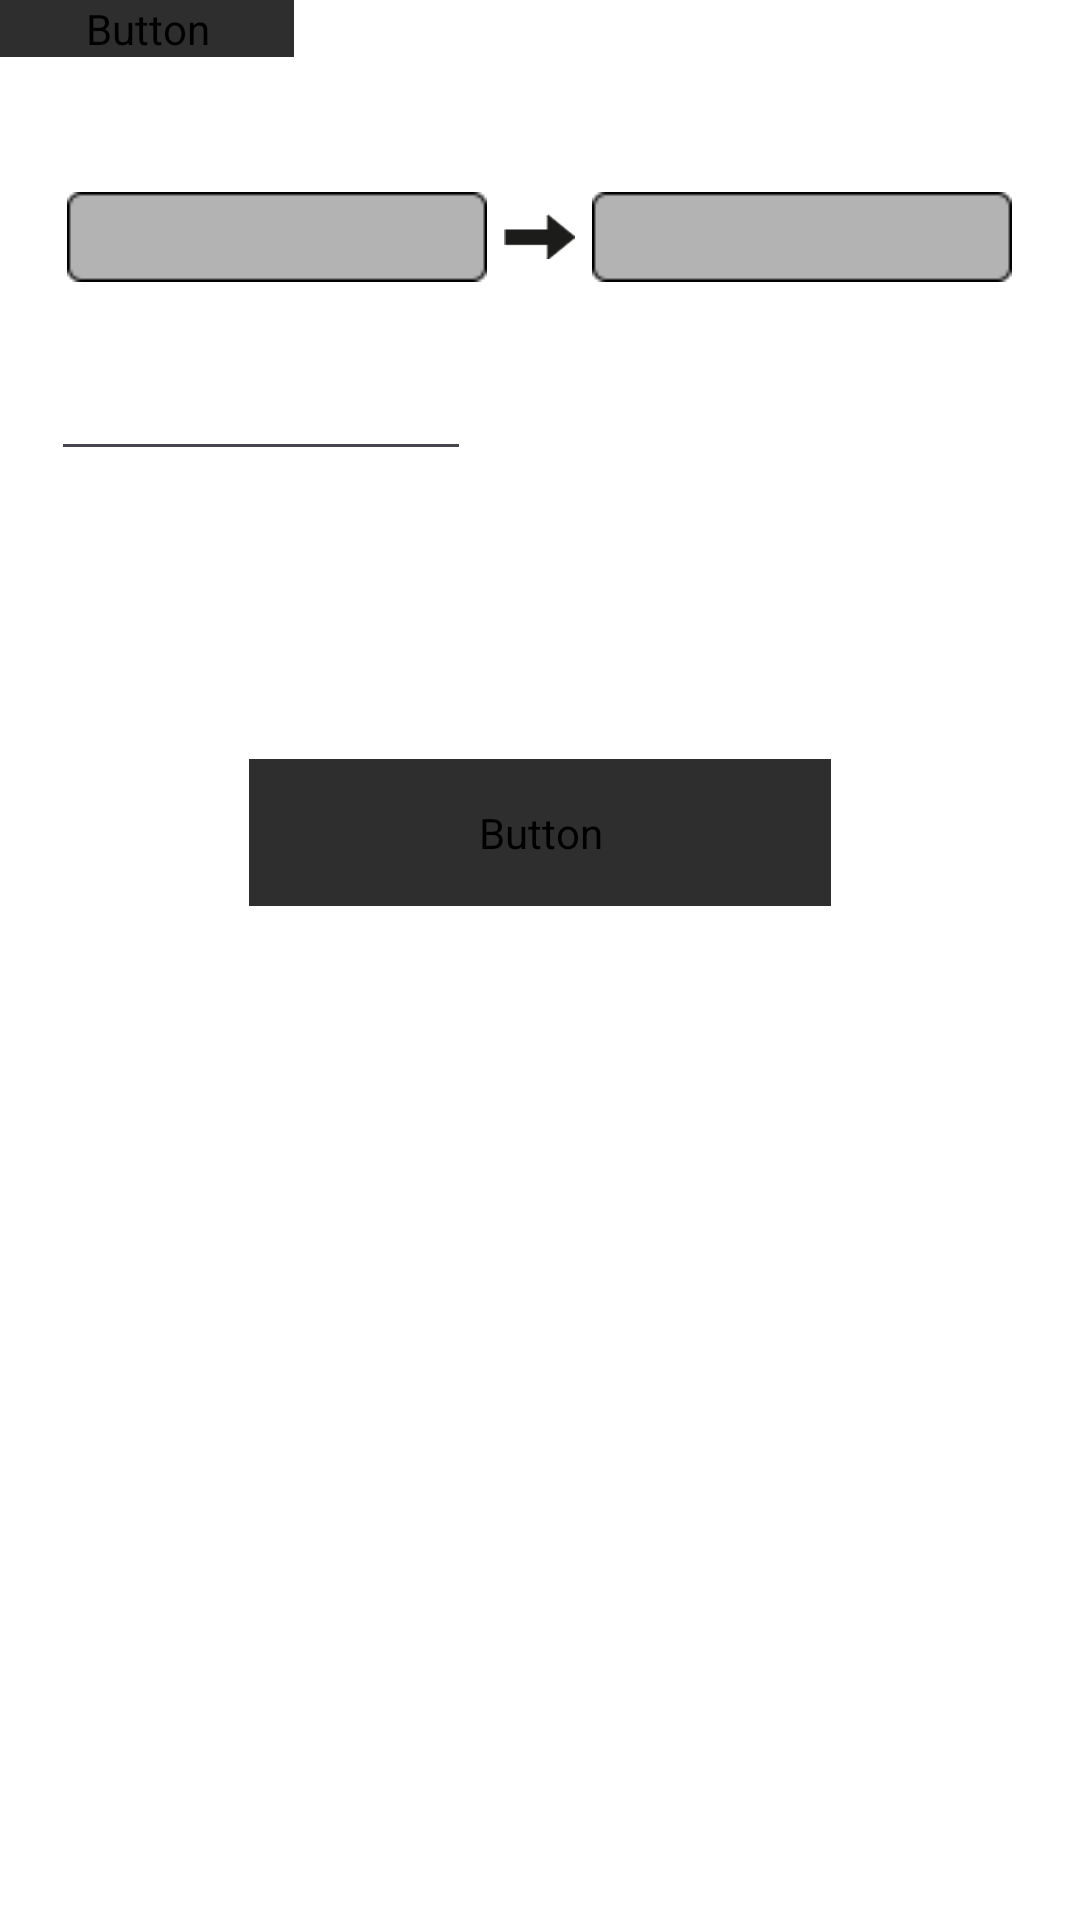

Screen size 1080px×1920px. Icon name, then its center in pixels as (x,y):
arrow: (539,236)
